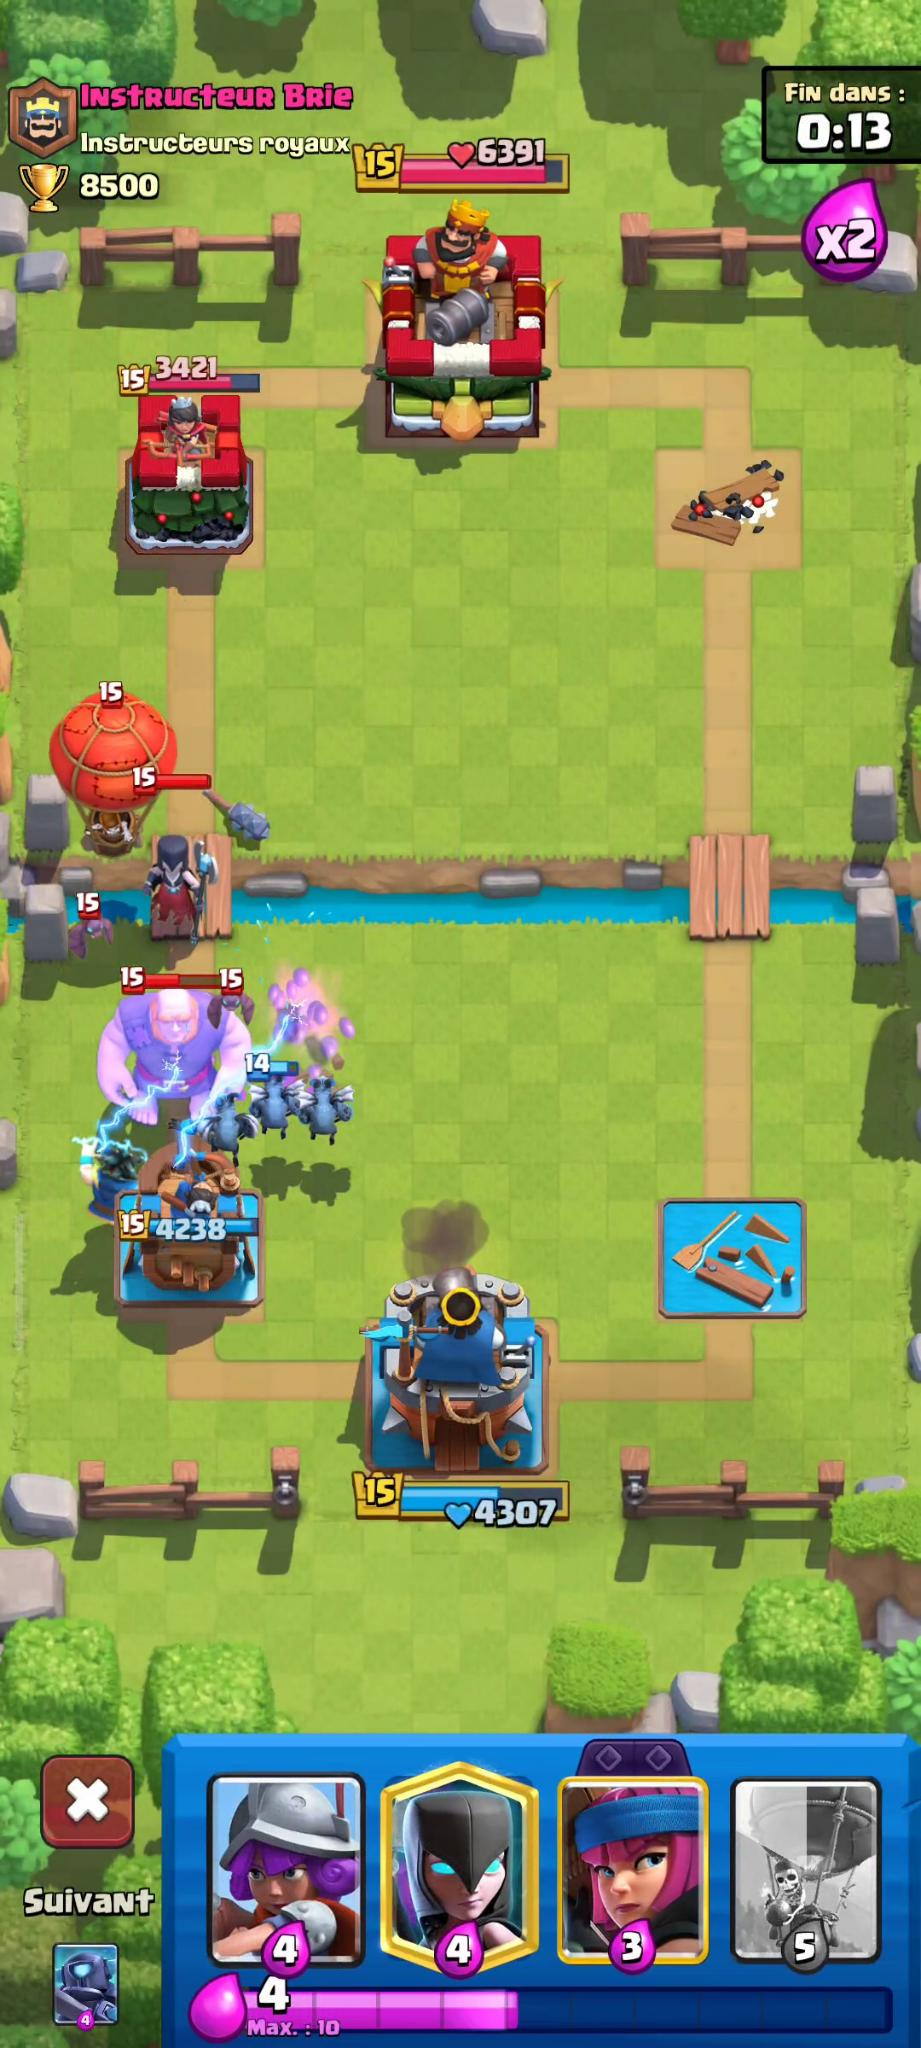bat: (191, 1089, 261, 1169), (57, 891, 133, 964), (293, 1087, 362, 1149), (239, 1075, 307, 1132), (208, 976, 256, 1033)
geant: (97, 930, 253, 1135)
